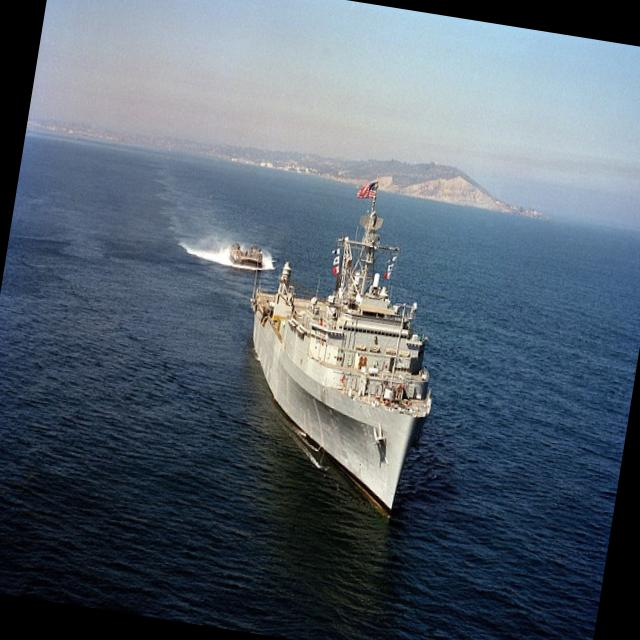Military: (250, 176, 431, 517)
